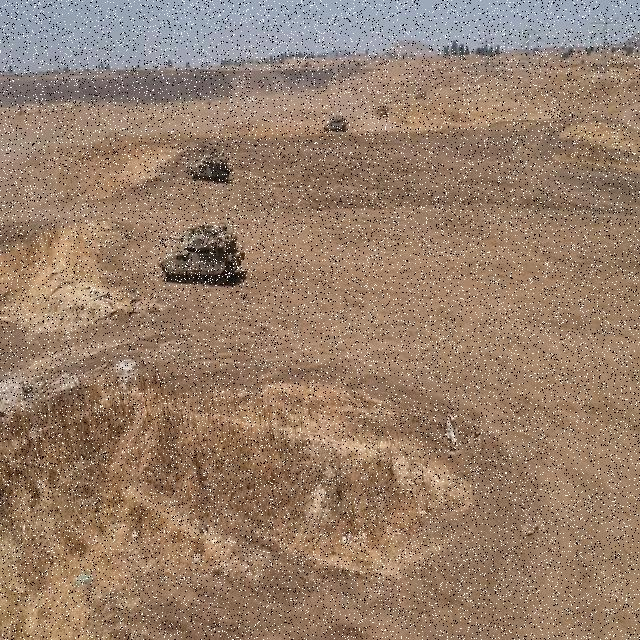MIL_MBT: (158, 218, 249, 280), (186, 143, 234, 186), (321, 103, 350, 137), (372, 99, 392, 122)
